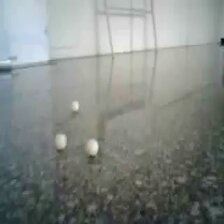tennis: (137, 85, 153, 109), (58, 68, 74, 89), (150, 61, 163, 78)
